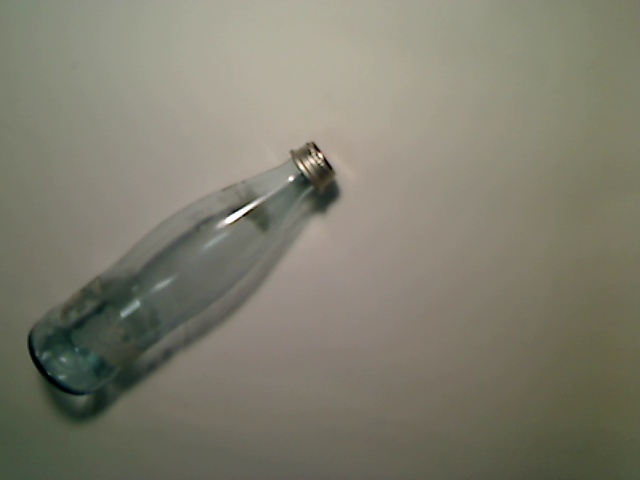bottle: (26, 141, 338, 397)
